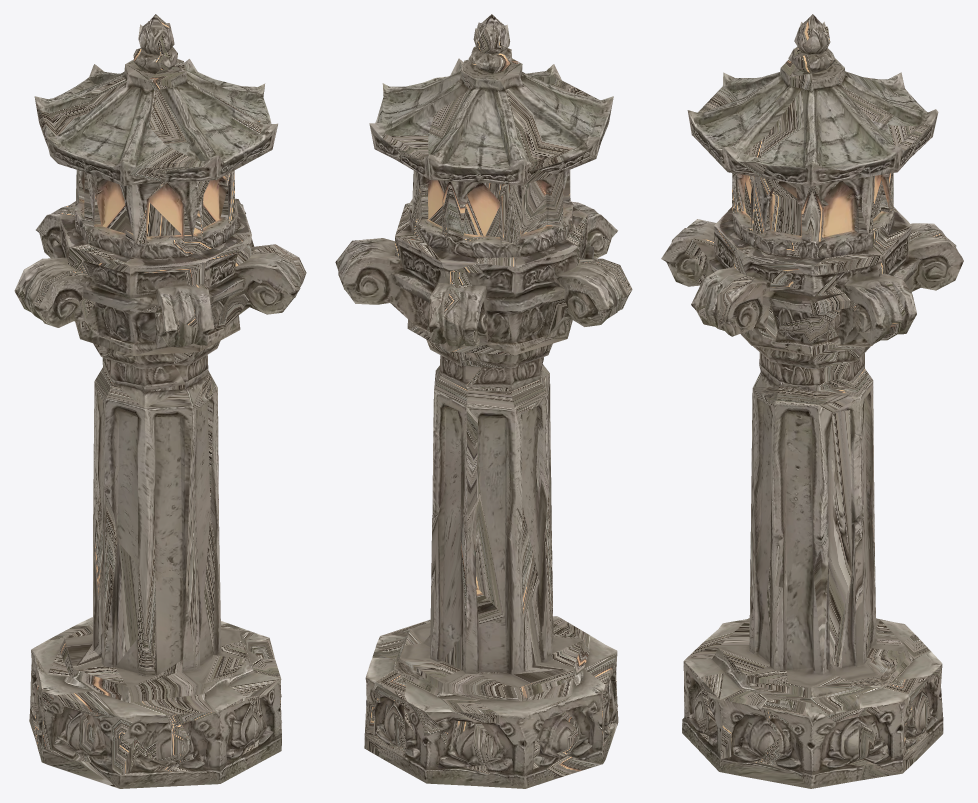
File: prop_stone_lantern.9339d089.glb
3 renders of one model, left to right at view 1: azimuth 30°, elevation 25°; view 2: azimuth 150°, elevation 25°; view 3: azimuth 270°, elevation 25°, orthographic.
Parts seen in each view (by area): view 1: tripo_node_d7c5bed1-27dc-4381-a606-176ae07760df; view 2: tripo_node_d7c5bed1-27dc-4381-a606-176ae07760df; view 3: tripo_node_d7c5bed1-27dc-4381-a606-176ae07760df.
Part boxes in pixels (box(x1,y1,x2,y2)): tripo_node_d7c5bed1-27dc-4381-a606-176ae07760df: box(14, 14, 306, 788); tripo_node_d7c5bed1-27dc-4381-a606-176ae07760df: box(335, 14, 632, 788); tripo_node_d7c5bed1-27dc-4381-a606-176ae07760df: box(661, 14, 963, 788).
Size of the model in its own units: 1.76 by 4.8 by 1.83.
1 material, 1 textured.
